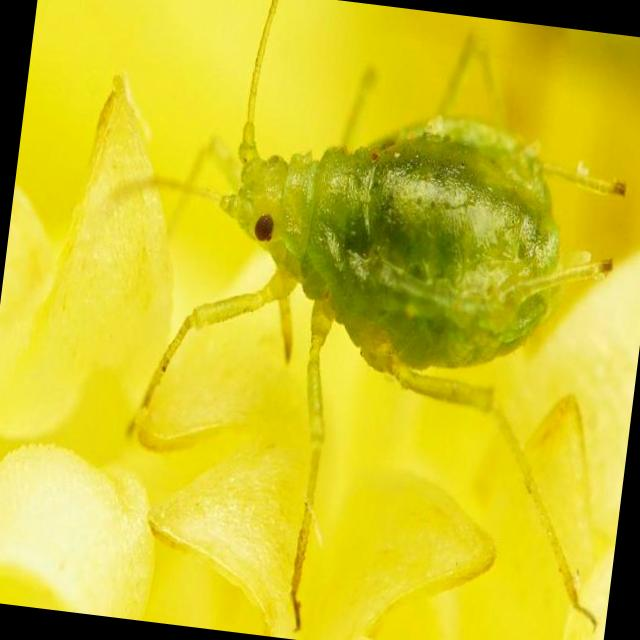aphid: (146, 54, 636, 518)
